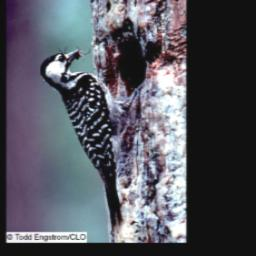Woodpecker: (38, 46, 134, 227)
